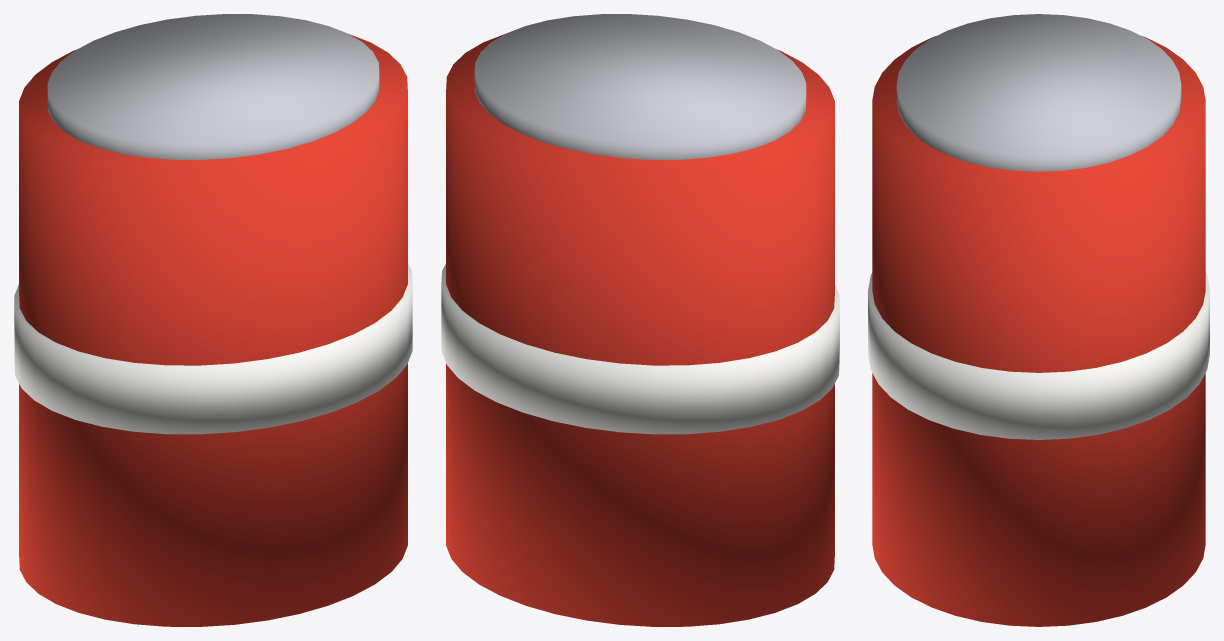
The model's file is tb_mat_brus.glb.
3 renders of one model, left to right at view 1: azimuth 30°, elevation 25°; view 2: azimuth 150°, elevation 25°; view 3: azimuth 270°, elevation 25°, orthographic. The views are drawn at different scales.
Visible parts, largest first — view 1: matkropp; view 2: matkropp; view 3: matkropp.
Boxes of the visible parts, x1,y1,x2,y2 form: matkropp: (14, 14, 412, 626); matkropp: (441, 14, 839, 626); matkropp: (868, 14, 1209, 626).
Size of the model in its own units: 0.672 by 0.847 by 0.5712.
